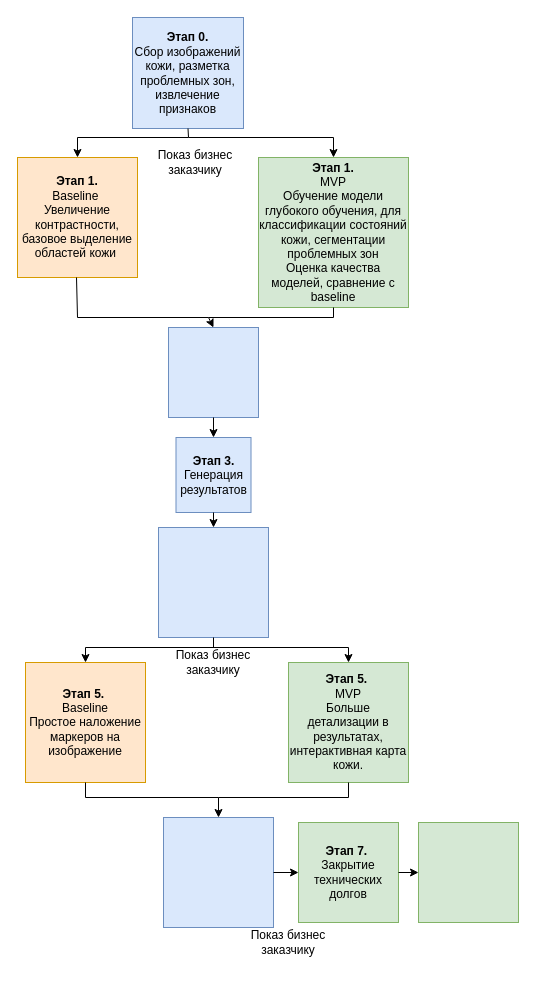
This 536x983 diagram has some shape labels left out. Each missing label, with the box of its shape:
Этап 2. Интерпретация результатов модели: (168, 326, 258, 418)
Этап 4. Стандартизация отчетов, определение приоритетных проблемных зон: (158, 526, 268, 638)
Этап 6. Визуальное представление проблемных зон, статистика проблем и тд.: (162, 816, 274, 928)
Этап 8. Подготовка пилота.: (418, 822, 518, 922)
